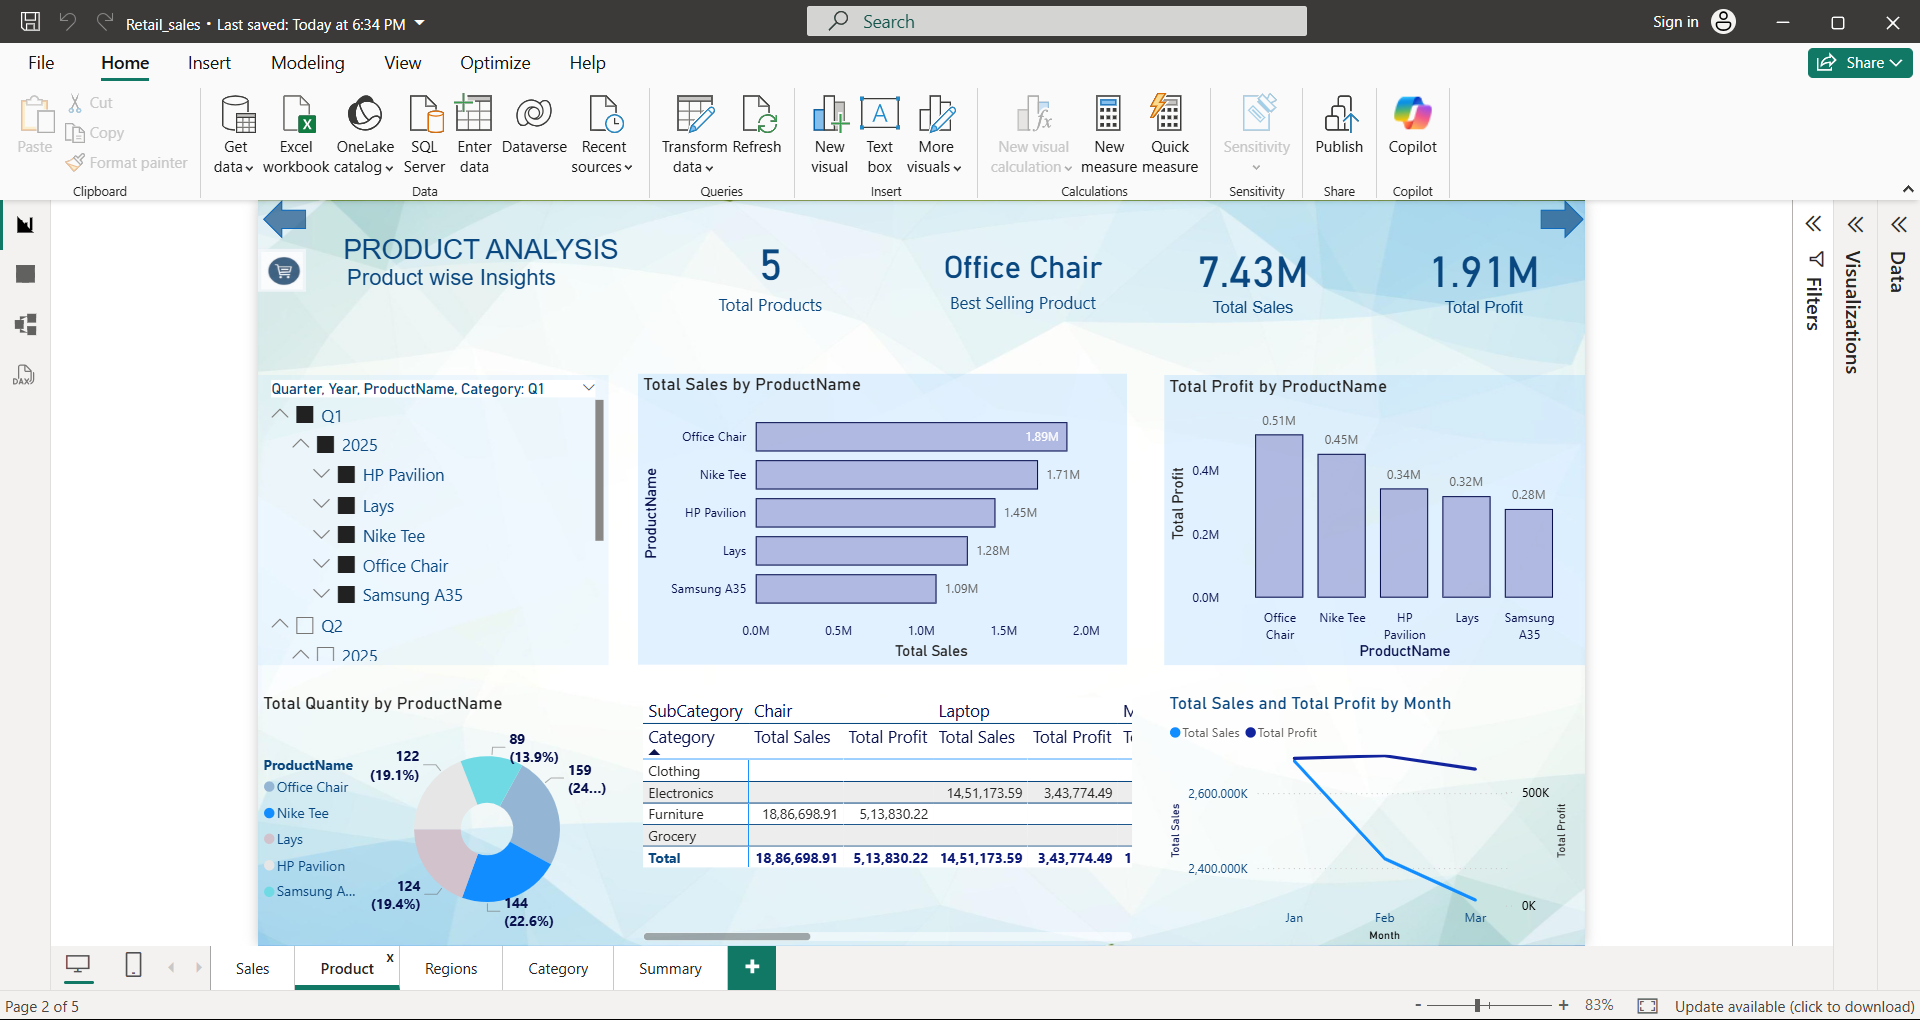

Layout of this report page (visuals, bound fields, positions):
{"tool":"powerbi","page":{"name":"Product","canvas":[1280,720],"ordinal":1},"visuals":[{"type":"card","fields":{"Values":["Retail_Sales_Analytics_Dataset.Total Products"]},"box":[400.5,8.4,188.2,120.6],"z":0},{"type":"card","fields":{"Values":["Retail_Sales_Analytics_Dataset.Best Selling Product"]},"box":[627.1,13.7,222.3,120.8],"z":1000},{"type":"card","fields":{"Values":["Retail_Sales_Analytics_Dataset.Total Sales"]},"box":[860.4,11,200.3,124.9],"z":2000},{"type":"card","fields":{"Values":["Retail_Sales_Analytics_Dataset.Total Profit"]},"box":[1085.4,11,194.9,124.9],"z":3000},{"type":"clusteredBarChart","fields":{"Category":["Retail_Sales_Analytics_Dataset.ProductName"],"Y":["Retail_Sales_Analytics_Dataset.Total Sales"]},"box":[367.3,168.1,472,280.5],"z":4000},{"type":"clusteredColumnChart","fields":{"Category":["Retail_Sales_Analytics_Dataset.ProductName"],"Y":["Retail_Sales_Analytics_Dataset.Total Profit"]},"box":[874.1,168.8,406.2,279.9],"z":5000},{"type":"donutChart","fields":{"Category":["Retail_Sales_Analytics_Dataset.ProductName"],"Y":["Retail_Sales_Analytics_Dataset.Total Quantity"]},"box":[0,475.3,338.4,244.9],"z":6000},{"type":"pivotTable","fields":{"Rows":["Retail_Sales_Analytics_Dataset.Category"],"Columns":["Retail_Sales_Analytics_Dataset.SubCategory"],"Values":["Retail_Sales_Analytics_Dataset.Total Sales","Retail_Sales_Analytics_Dataset.Total Profit"]},"box":[367.3,475.3,482,244.9],"z":7000},{"type":"lineChart","fields":{"Category":["DateTable.Month"],"Y2":["Retail_Sales_Analytics_Dataset.Total Profit"],"Y":["Retail_Sales_Analytics_Dataset.Total Sales"]},"box":[874.1,474.8,395.2,245.6],"z":8000},{"type":"slicer","fields":{"Values":["DateTable.Quarter","DateTable.Year","Retail_Sales_Analytics_Dataset.ProductName","Retail_Sales_Analytics_Dataset.Category"]},"box":[0,168.6,338.4,280.2],"z":9000},{"type":"textbox","box":[76.8,27.4,323.8,122.1],"z":10000},{"type":"shape","box":[4.7,0,41.9,37.2],"z":11000},{"type":"shape","box":[1238.4,0,41.9,37.2],"z":12000},{"type":"actionButton","box":[0,46.5,46.5,41.9],"z":13000}]}

Visuals, with their boxes on the page's 1280x720 design canvas (x1, y1, x2, y2). These are canvas units, not pixel positions in the 1920x1020 screenshot, which may show the page scaled, cropped or inside an application window:
card - Retail_Sales_Analytics_Dataset.Total Products: region(400, 8, 589, 129)
card - Retail_Sales_Analytics_Dataset.Best Selling Product: region(627, 14, 849, 134)
card - Retail_Sales_Analytics_Dataset.Total Sales: region(860, 11, 1061, 136)
card - Retail_Sales_Analytics_Dataset.Total Profit: region(1085, 11, 1280, 136)
clusteredBarChart - Retail_Sales_Analytics_Dataset.ProductName x Retail_Sales_Analytics_Dataset.Total Sales: region(367, 168, 839, 449)
clusteredColumnChart - Retail_Sales_Analytics_Dataset.ProductName x Retail_Sales_Analytics_Dataset.Total Profit: region(874, 169, 1280, 449)
donutChart - Retail_Sales_Analytics_Dataset.ProductName x Retail_Sales_Analytics_Dataset.Total Quantity: region(0, 475, 338, 720)
pivotTable - Retail_Sales_Analytics_Dataset.Category x Retail_Sales_Analytics_Dataset.SubCategory: region(367, 475, 849, 720)
lineChart - DateTable.Month x Retail_Sales_Analytics_Dataset.Total Profit: region(874, 475, 1269, 720)
slicer - DateTable.Quarter x DateTable.Year: region(0, 169, 338, 449)
textbox: region(77, 27, 401, 150)
shape: region(5, 0, 47, 37)
shape: region(1238, 0, 1280, 37)
actionButton: region(0, 46, 46, 88)
